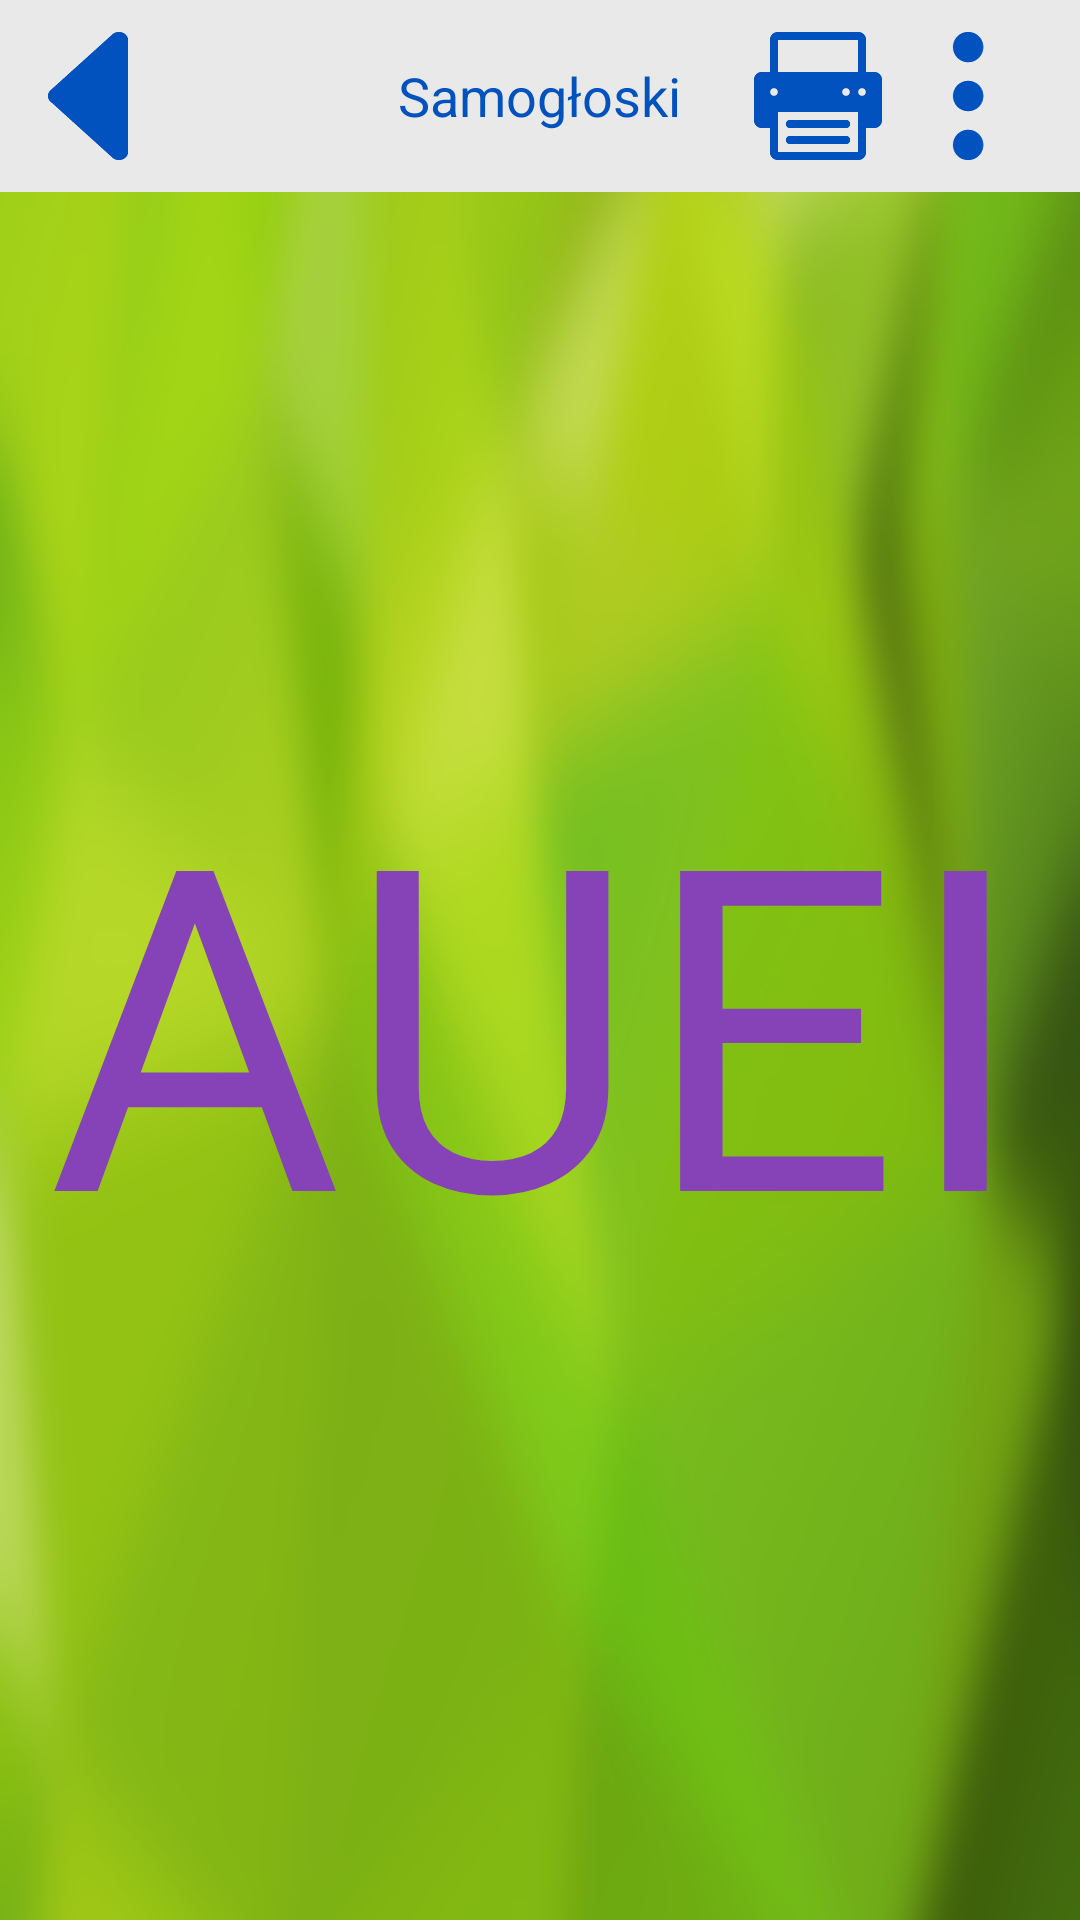

Icons on this 1080 x 1920 Android screen, each with its box as (x1, y1, x2, y2):
Przycisk powrotu: (48, 32, 128, 160)
Przycisk wydruku: (754, 32, 882, 160)
